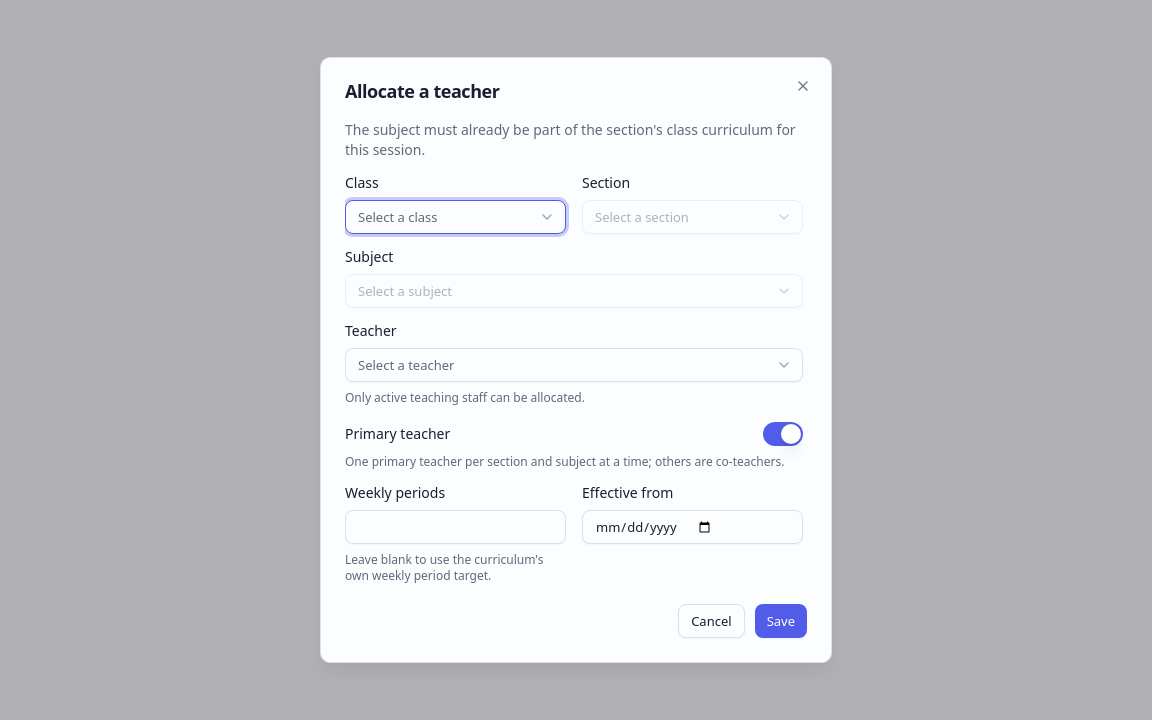
Test: AllocateTeacherDialog › the fields › offers the active teaching staff, with the hint about who can be allocated
Click the dropdown labelled "teacher" at (406, 365), box [345, 348, 803, 382]
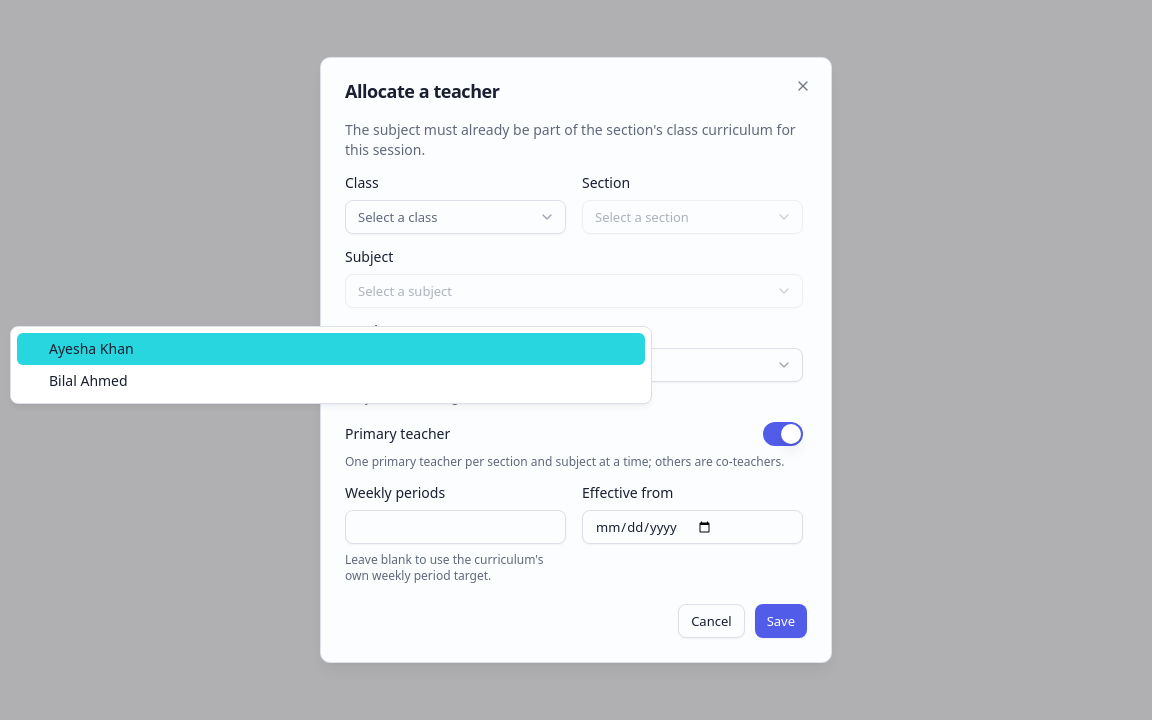
Expected: the text "Only active teaching staff can be allocated." is shown, [345, 389, 585, 406]
Expected: the option "Ayesha Khan" is shown, [17, 333, 645, 365]
Expected: the option "Bilal Ahmed" is shown, [49, 371, 128, 390]
